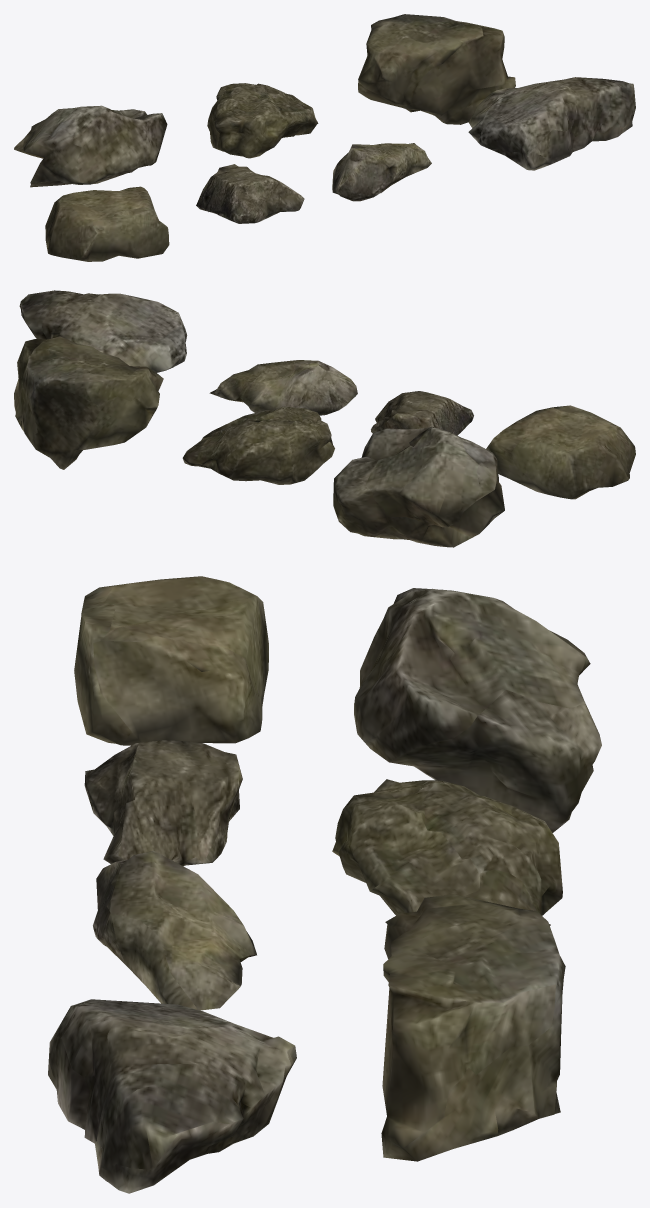
File: rock_moss_set_02.glb
3 views of the same model, one above another, from view 1: azimuth 30°, elevation 25°; view 2: azimuth 150°, elevation 25°; view 3: azimuth 270°, elevation 25° (orthographic). The views are drawn at different scales.
Parts seen in each view (by area): view 1: rock_moss_set_02_rock08; view 2: rock_moss_set_02_rock08; view 3: rock_moss_set_02_rock08.
Boxes of the visible parts, left/top/right/bottom form: rock_moss_set_02_rock08: left=14, top=14, right=635, bottom=261; rock_moss_set_02_rock08: left=14, top=290, right=635, bottom=547; rock_moss_set_02_rock08: left=48, top=576, right=601, bottom=1193.
Size of the model in its own units: 8.28 by 1.35 by 3.4.
1 material, 1 textured.
